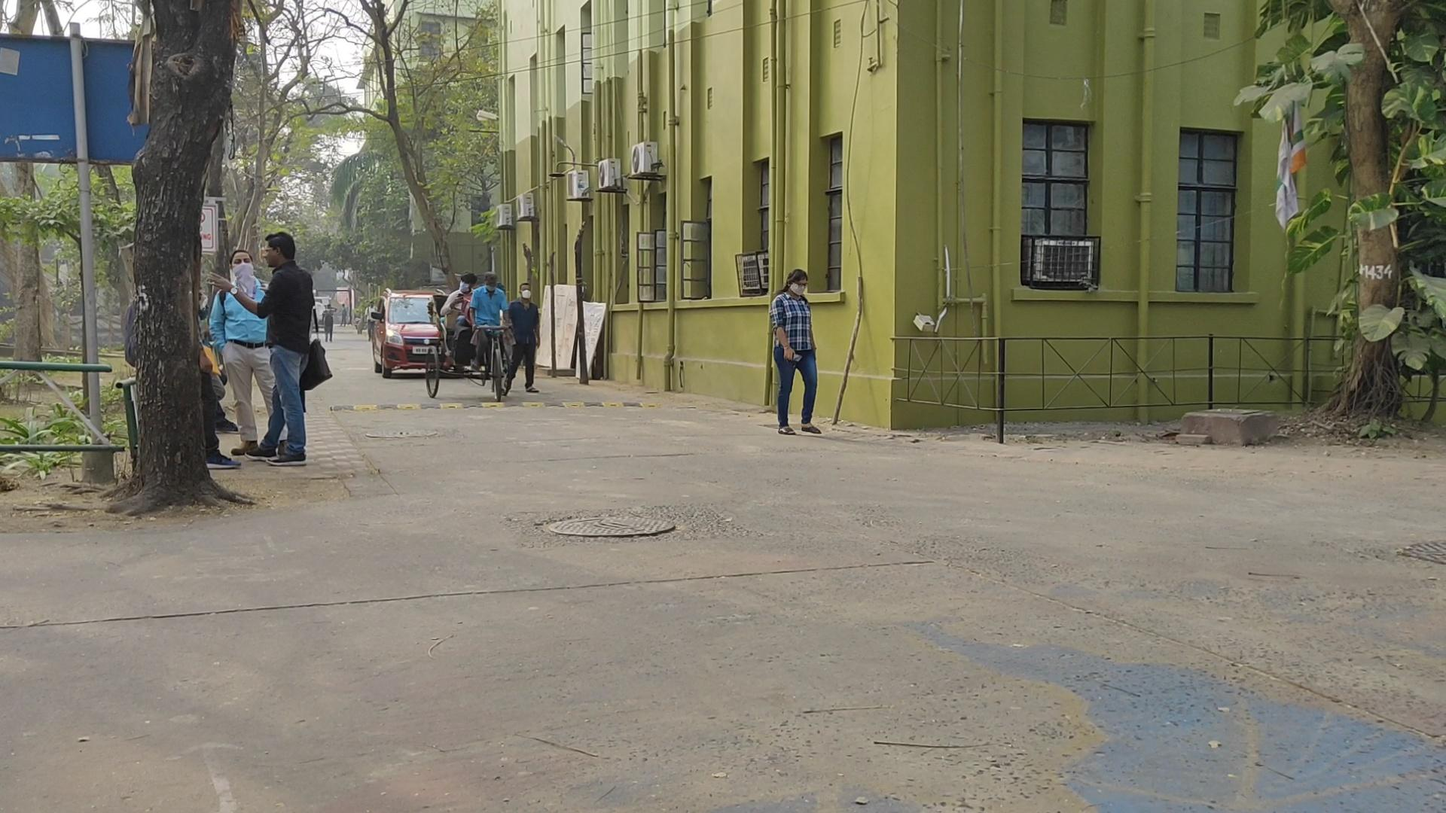car: (370, 288, 446, 380)
